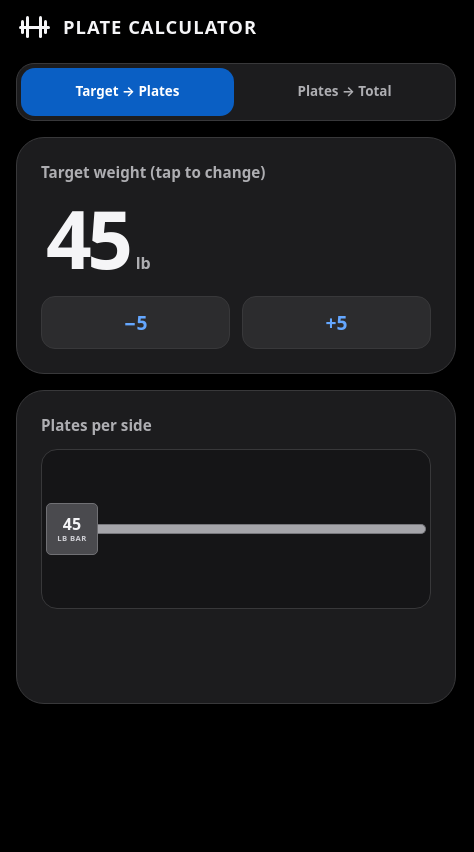
Test case: Slice 003 application mode integration › S3-AC-002 switches to the empty reverse mode without changing the URL
Click the button with aria-label "Plates → Total Weight". click: (344, 92)
box: [238,68,451,116]
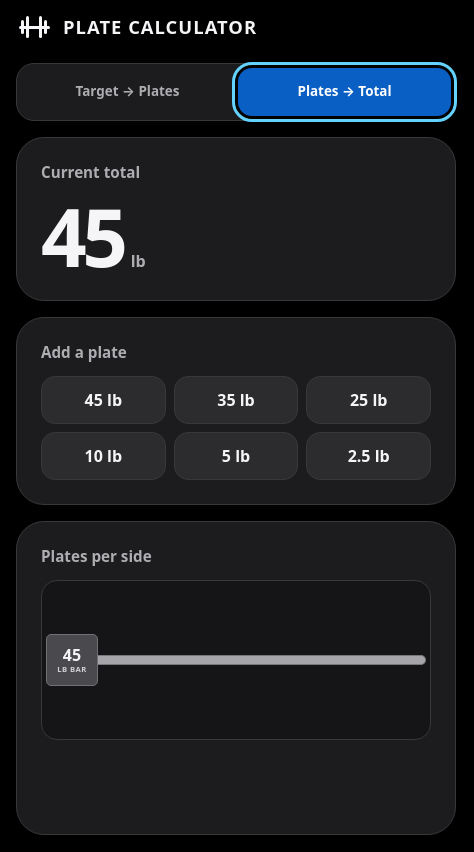
Check: the heading "Plates per side" is shown, box [41,546,152,566]
Check: the number of buttons named "Add " is 6, box [41,376,166,424]; [174,376,298,424]; [306,376,431,424]; [41,432,166,480]; [174,432,298,480]; [306,432,431,480]
